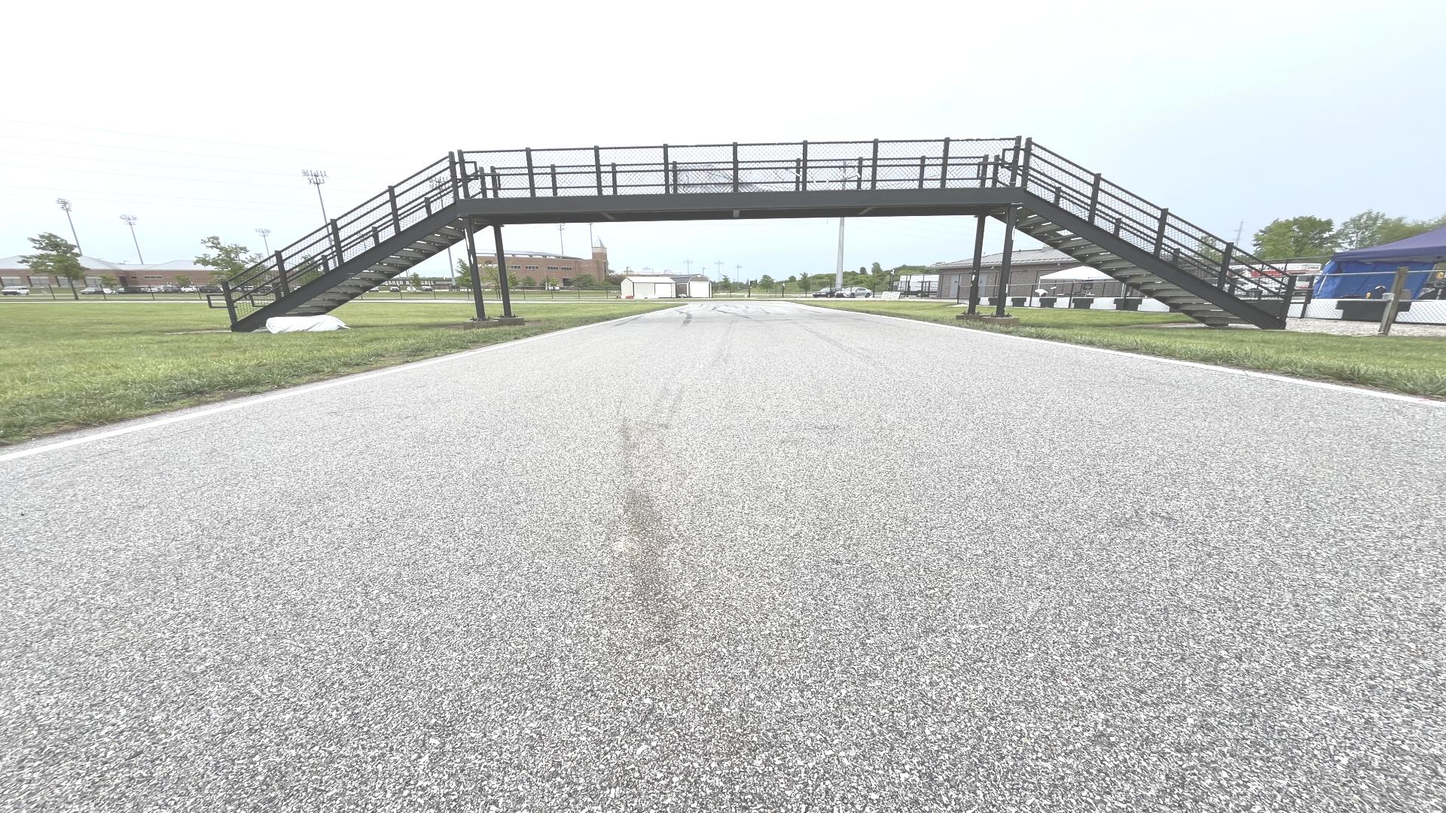white-line: (0, 303, 691, 463), (750, 302, 1445, 409)
